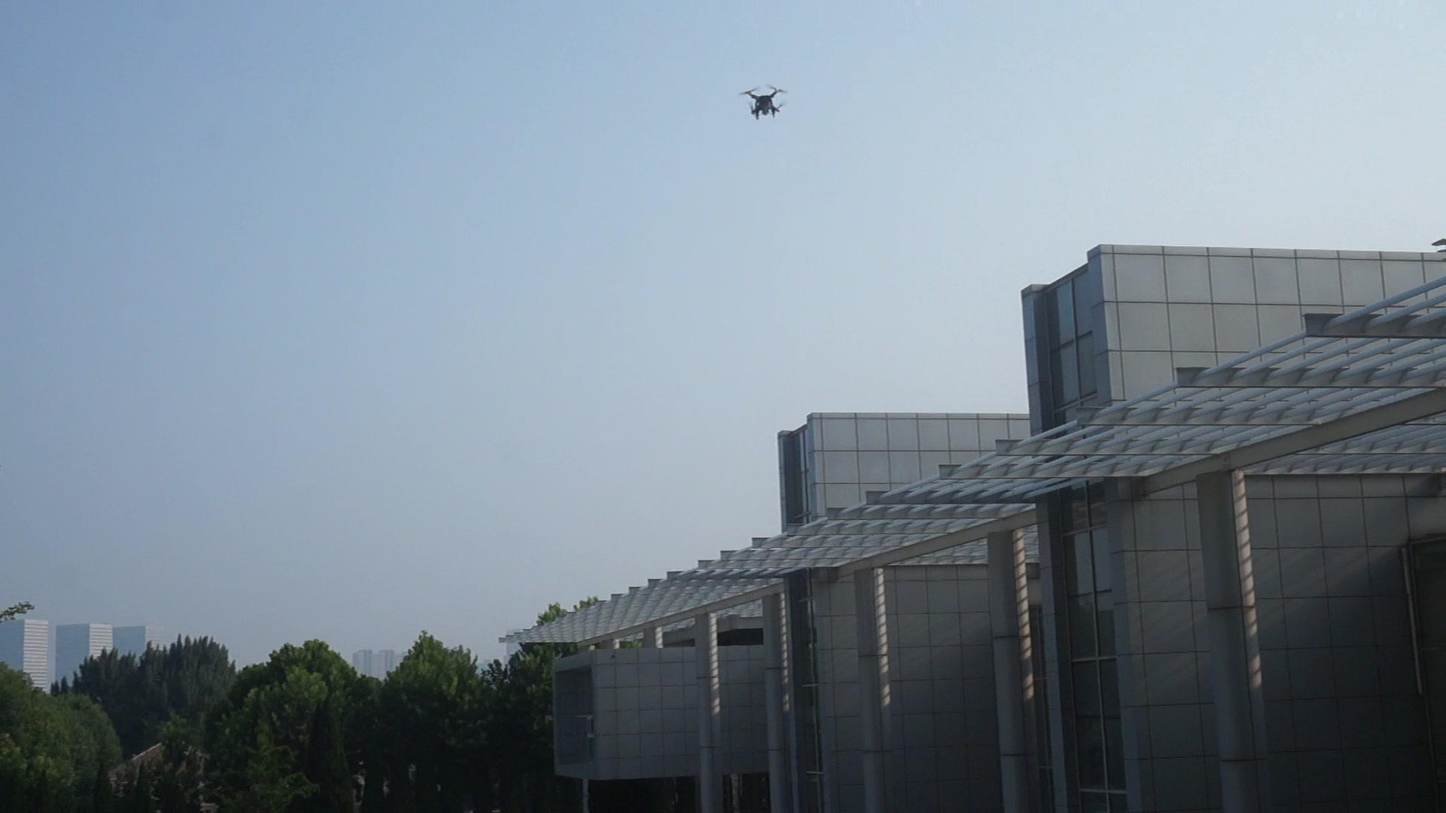UAV: (740, 85, 789, 121)
